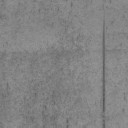surface scratch: (102, 21, 106, 128)
